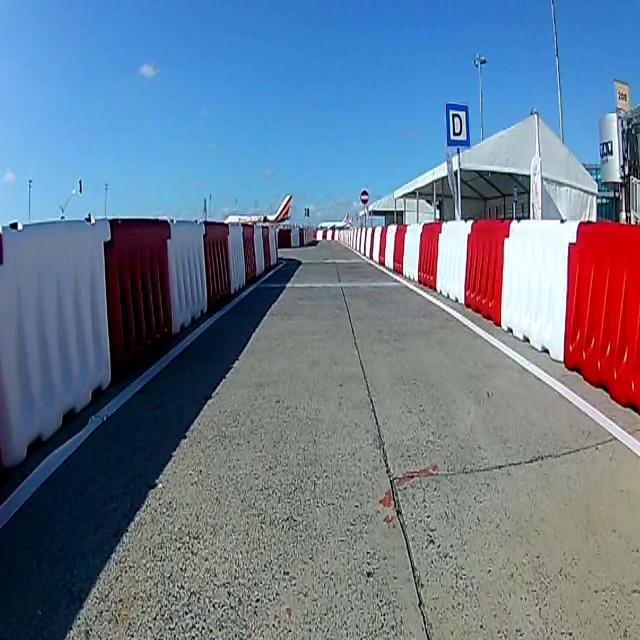durak: (445, 102, 470, 148)
girisyok: (360, 190, 370, 206)
